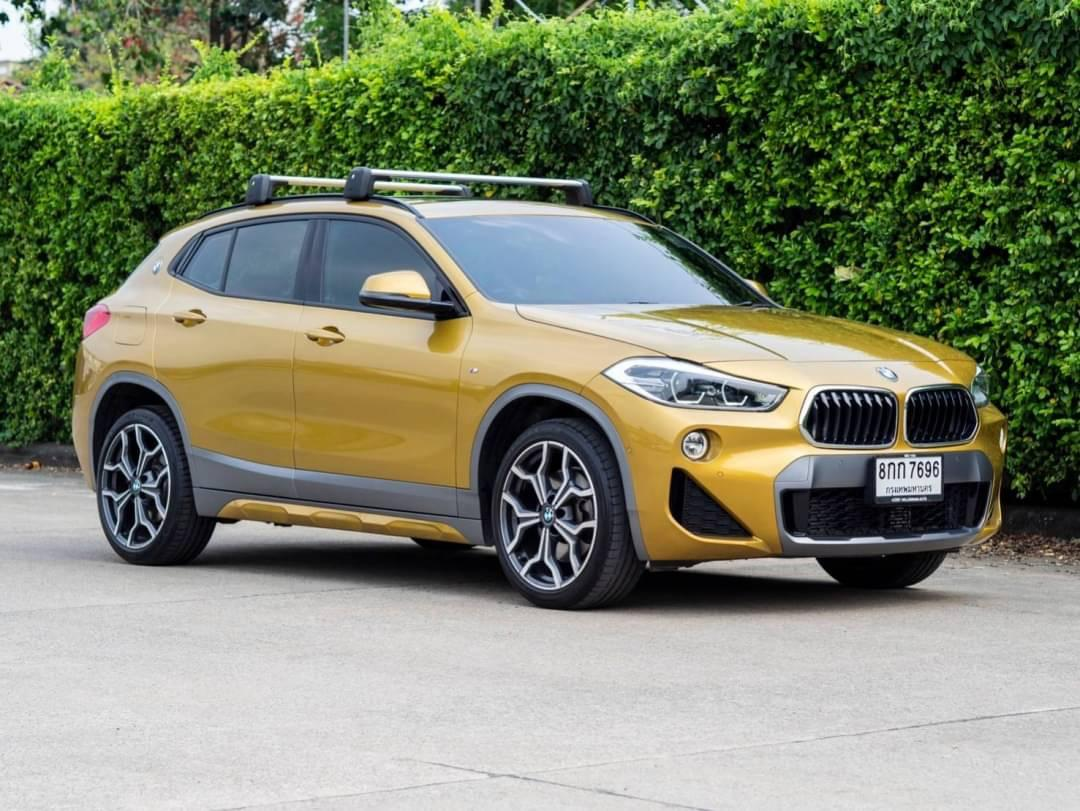license-plate: (863, 449, 956, 510)
